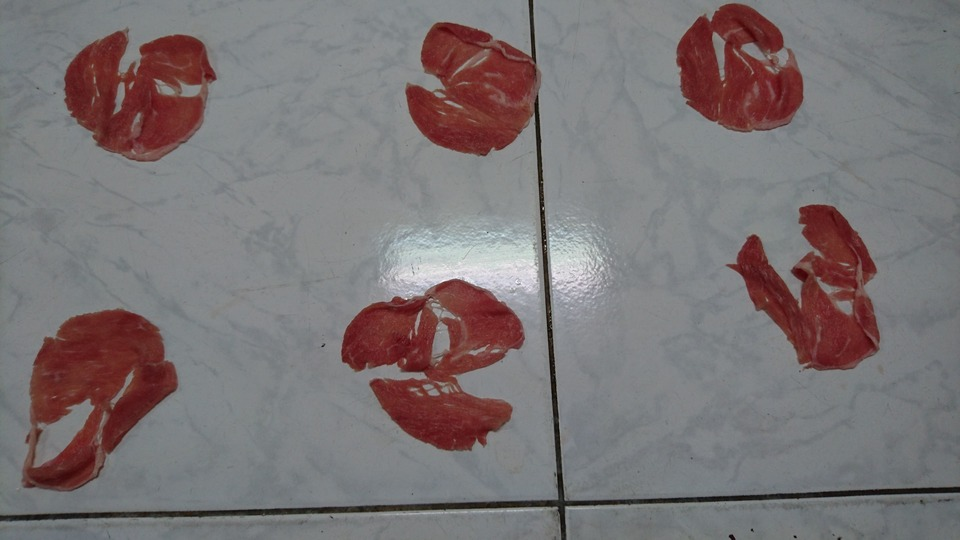restructured meat: (334, 276, 547, 454), (8, 291, 189, 493), (49, 8, 217, 176), (717, 198, 879, 371), (404, 23, 558, 159), (671, 9, 818, 148)
